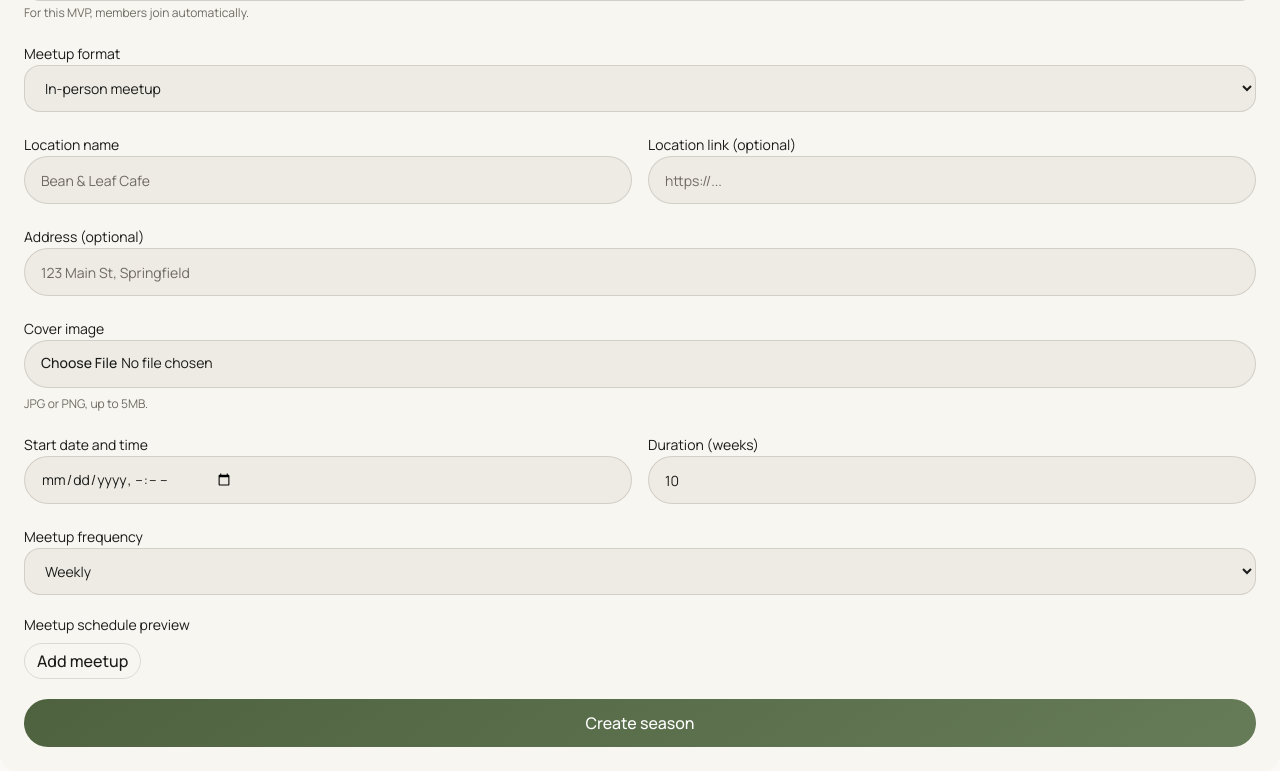
Test: SeasonCreateForm › shows validation errors for missing required fields
(page scrolled)
Click the button "Create season". click: (640, 723)
box: left=24, top=699, right=1256, bottom=747
(page scrolled)
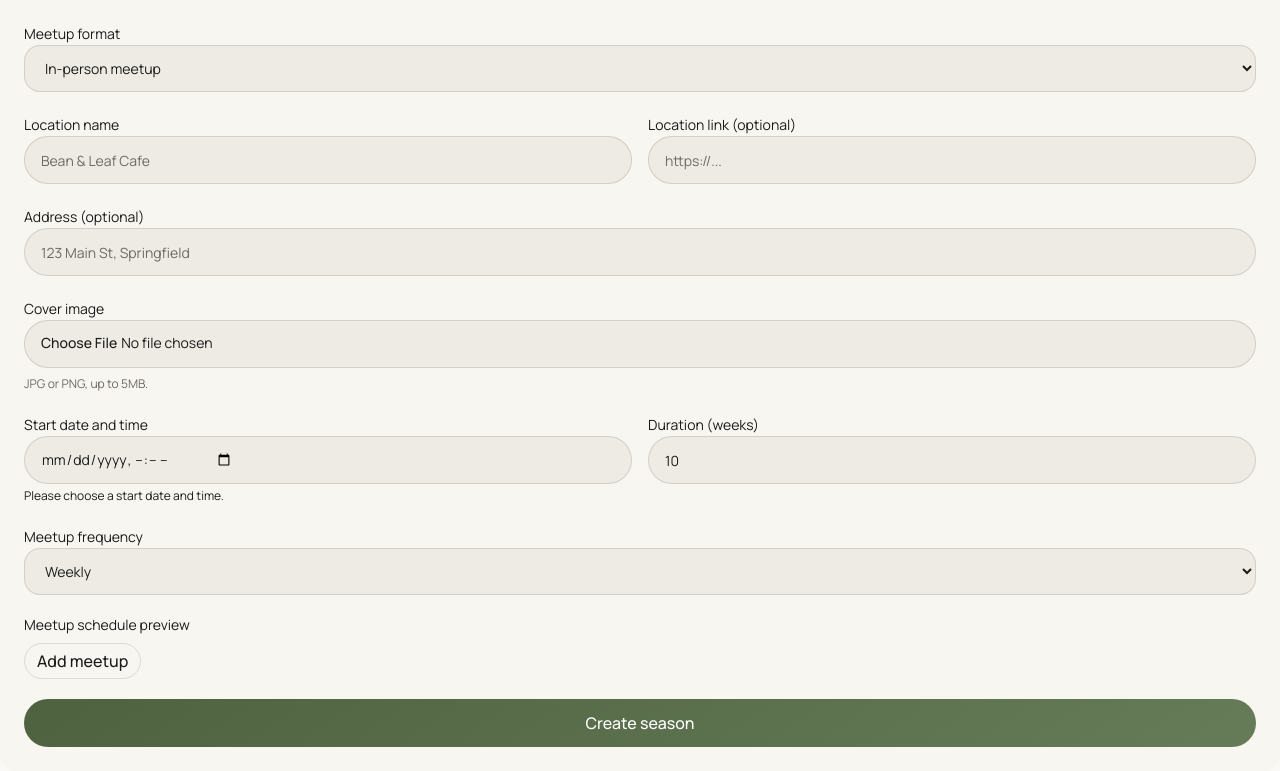
expect the text "Please choose a start date and time." is shown: met, box left=24, top=487, right=224, bottom=504
